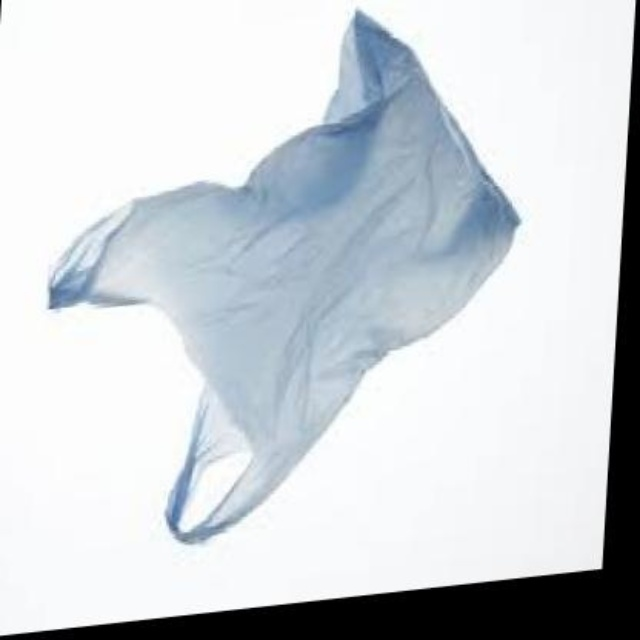trash: (49, 11, 517, 542)
